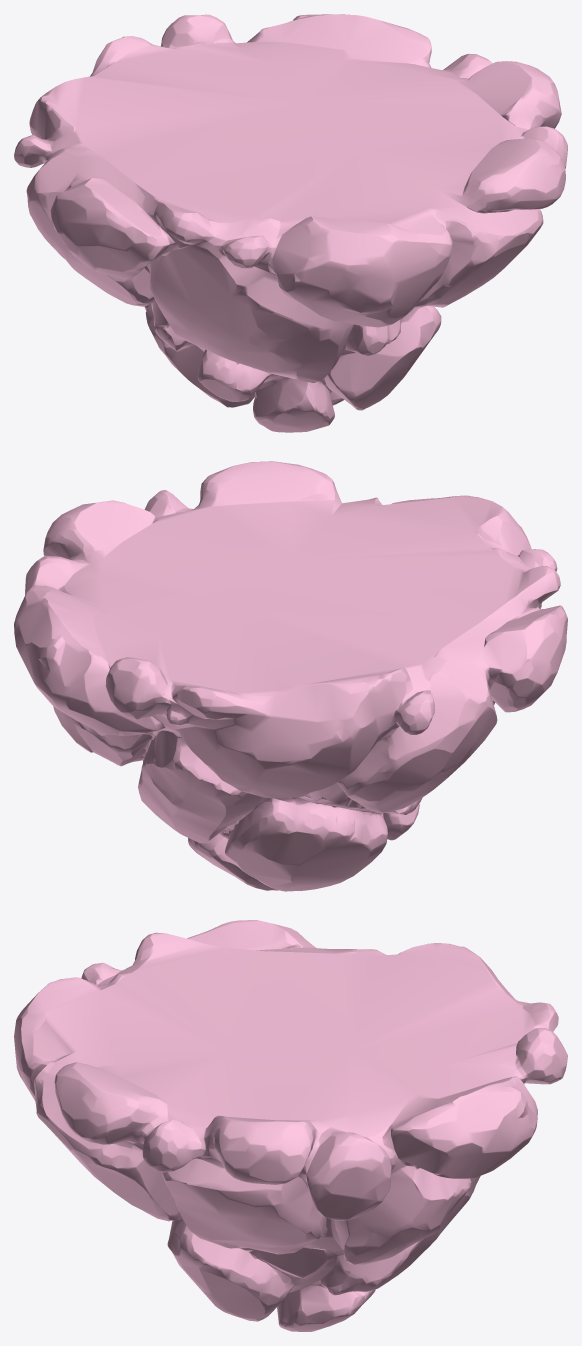
File: island_5_LOD1.fbx
The picture shows the model from 3 angles, top to bottom: view 1: azimuth 30°, elevation 25°; view 2: azimuth 150°, elevation 25°; view 3: azimuth 270°, elevation 25°; orthographic projection. The views are drawn at different scales.
Visible parts, largest first — view 1: Island_5_LOD1; view 2: Island_5_LOD1; view 3: Island_5_LOD1.
Boxes of the visible parts, x1=… form: Island_5_LOD1: x1=14, y1=14, x2=567, y2=432; Island_5_LOD1: x1=14, y1=461, x2=567, y2=891; Island_5_LOD1: x1=14, y1=920, x2=567, y2=1331.
Size of the model in its own units: 1510 by 917 by 1507.
